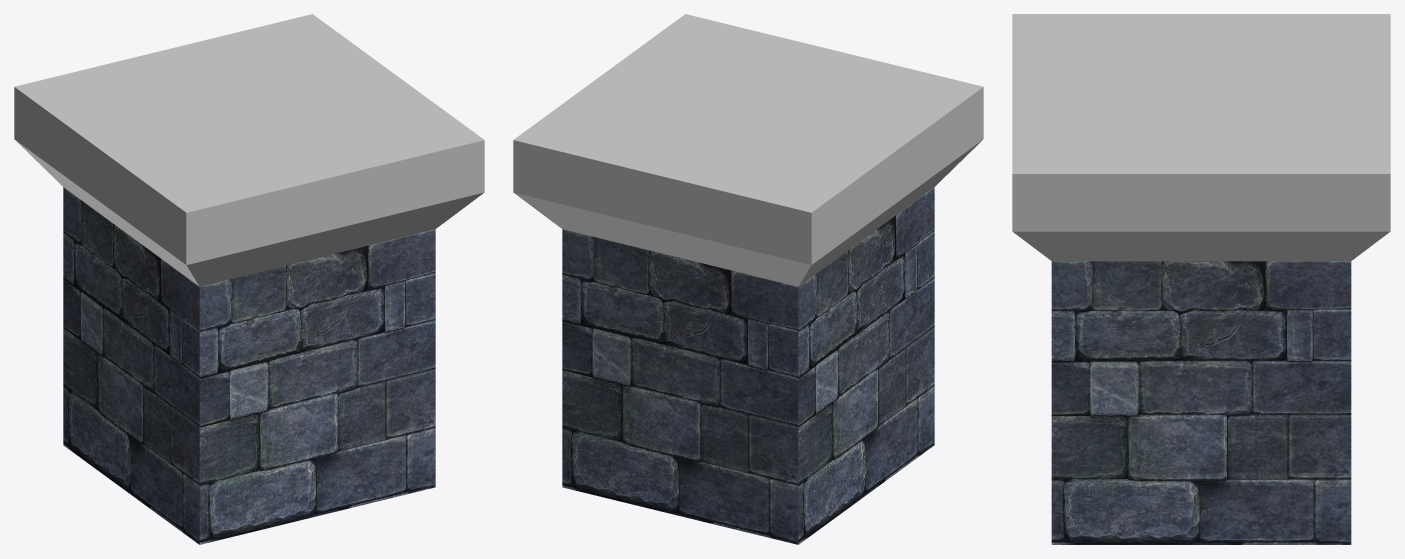
Rendered from StatuePart.FBX.
3 views of the same model, side by side, from view 1: azimuth 30°, elevation 25°; view 2: azimuth 150°, elevation 25°; view 3: azimuth 270°, elevation 25° (orthographic). The views are drawn at different scales.
Visible parts, largest first — view 1: Box01; view 2: Box01; view 3: Box01.
Part boxes in pixels (x1,y1,x2,y2): Box01: (14,14,484,544); Box01: (513,14,983,544); Box01: (1012,14,1390,544).
Bounding box in the file's own units: 111 × 125 × 111.
